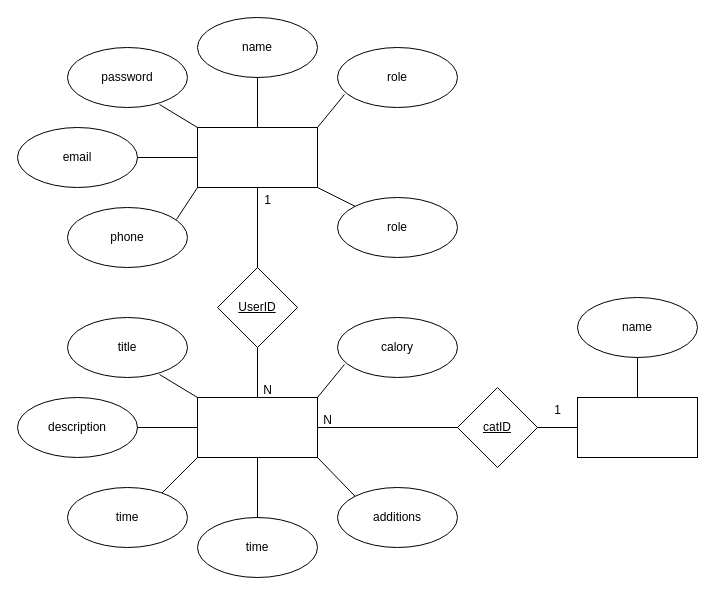
Some shapes in this 715 by 595 pixel diagram are drawn without their labels. The shapes that lost their labels are listed below. From the top down, each one's centre as x and y in pixels, then its label:
At pixel 257 157: "users".
At pixel 257 427: "recipes".
At pixel 637 427: "category".
